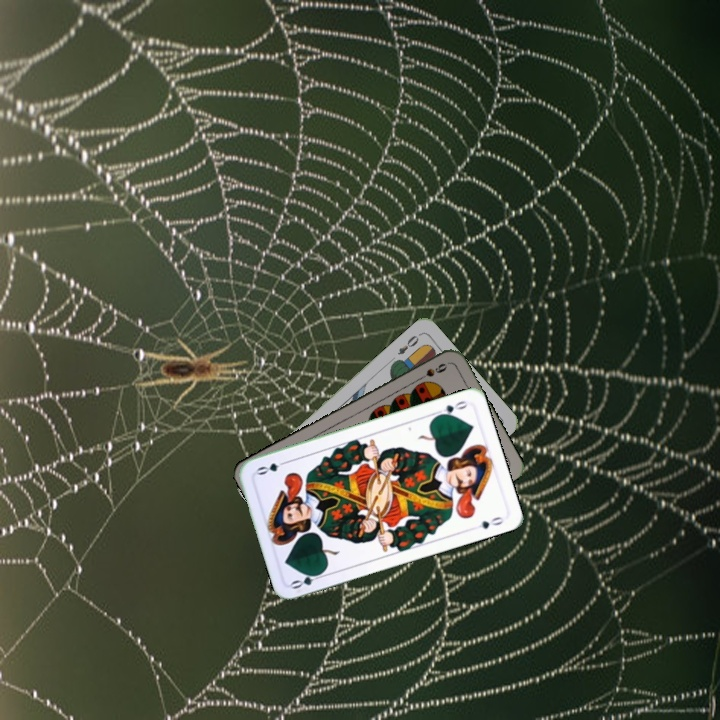EO: (393, 331, 422, 358)
GO: (287, 567, 327, 592), (431, 396, 471, 420)
S9: (413, 359, 450, 384)
